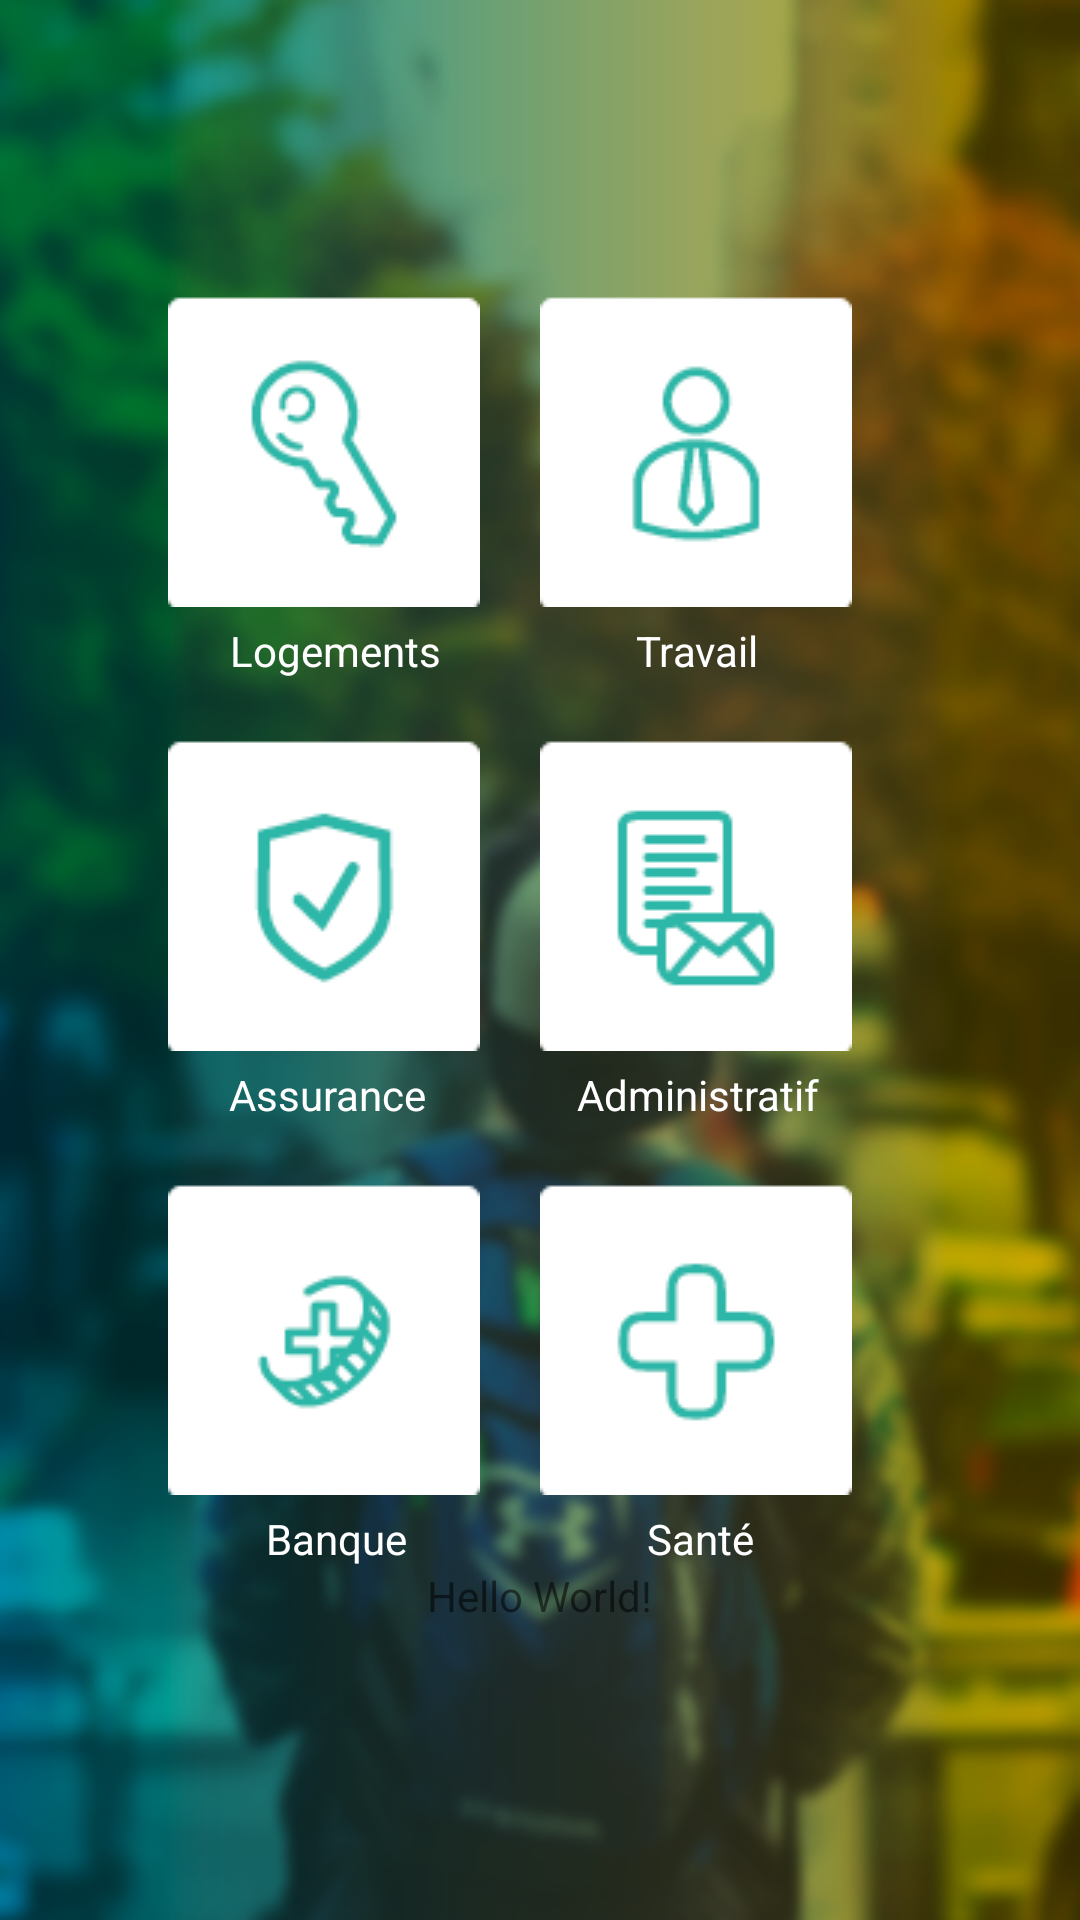

Icon click points for this 1080px×1920px phone screenshot, format [x,y]:
check anim: [324,895]
contact anim: [696,895]
cross anim: [696,1339]
key anim: [324,451]
user anim: [696,451]
